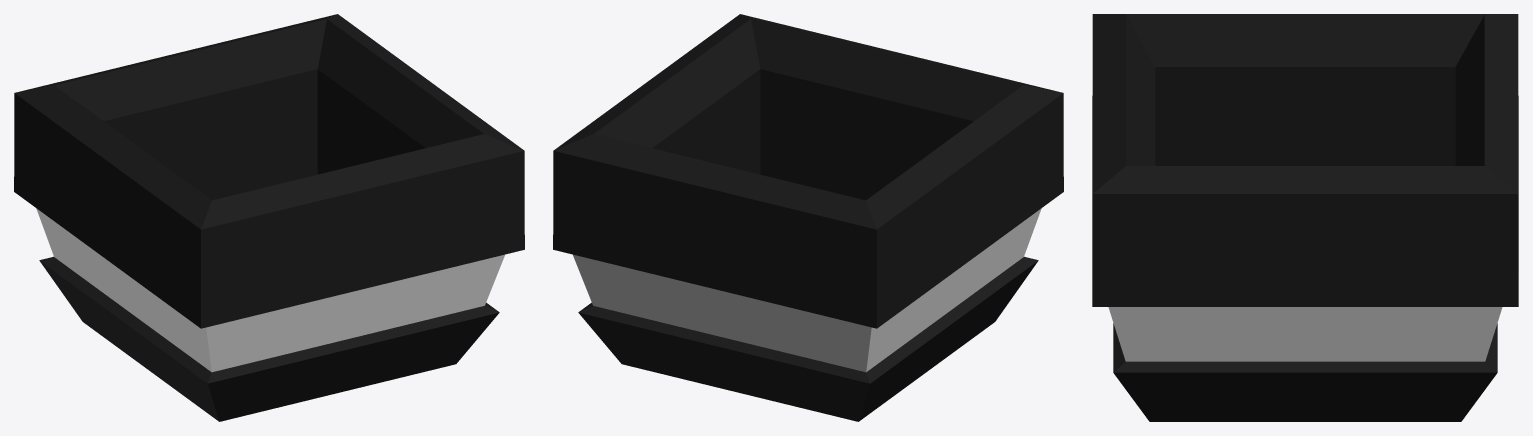
Rendered from crate_catcher1.glb.
The picture shows the model from 3 angles, left to right: view 1: azimuth 30°, elevation 25°; view 2: azimuth 150°, elevation 25°; view 3: azimuth 270°, elevation 25°; orthographic projection. The views are drawn at different scales.
Parts seen in each view (by area): view 1: Cube, Cube.001; view 2: Cube, Cube.001; view 3: Cube, Cube.001.
Part boxes in pixels (x1,y1,x2,y2): Cube: (14,14,524,421); Cube.001: (36,208,504,372); Cube: (553,14,1063,421); Cube.001: (573,208,1041,372); Cube: (1092,14,1518,421); Cube.001: (1108,307,1502,361).
Bounding box in the file's own units: 2.73 × 1.88 × 2.73.
1 material, 1 textured.
